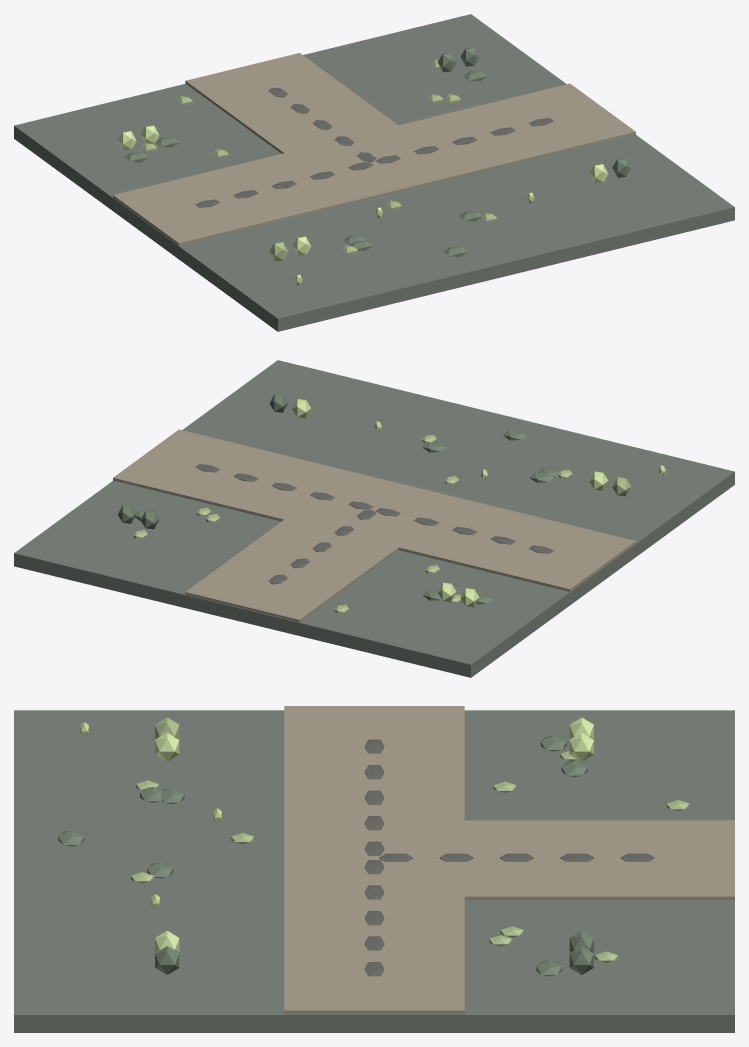
File: hunger_path_tee_new.glb
3 views of the same model, one above another, from view 1: azimuth 30°, elevation 25°; view 2: azimuth 150°, elevation 25°; view 3: azimuth 270°, elevation 25° (orthographic). The views are drawn at different scales.
Visible parts, largest first — view 1: road_material_00, road_material_01, road_material_05, road_material_02, road_material_04, road_material_03; view 2: road_material_00, road_material_01, road_material_05, road_material_02, road_material_04, road_material_03; view 3: road_material_00, road_material_01, road_material_02, road_material_05, road_material_04, road_material_03.
Boxes of the visible parts, x1,y1,x2,y2 form: road_material_00: (14,14,734,331); road_material_01: (113,53,635,245); road_material_05: (195,87,553,207); road_material_02: (124,47,631,256); road_material_04: (117,125,608,285); road_material_03: (141,59,497,261); road_material_00: (14,360,734,677); road_material_01: (113,429,635,622); road_material_05: (195,464,553,584); road_material_02: (117,393,560,604); road_material_04: (292,399,665,607); road_material_03: (132,434,631,613); road_material_00: (14,710,734,1032); road_material_01: (284,706,734,1014); road_material_02: (58,735,593,976); road_material_05: (364,739,654,976); road_material_04: (80,717,593,952); road_material_03: (131,717,689,962).
Bounding box in the file's own units: 8 × 0.5646 × 8.
